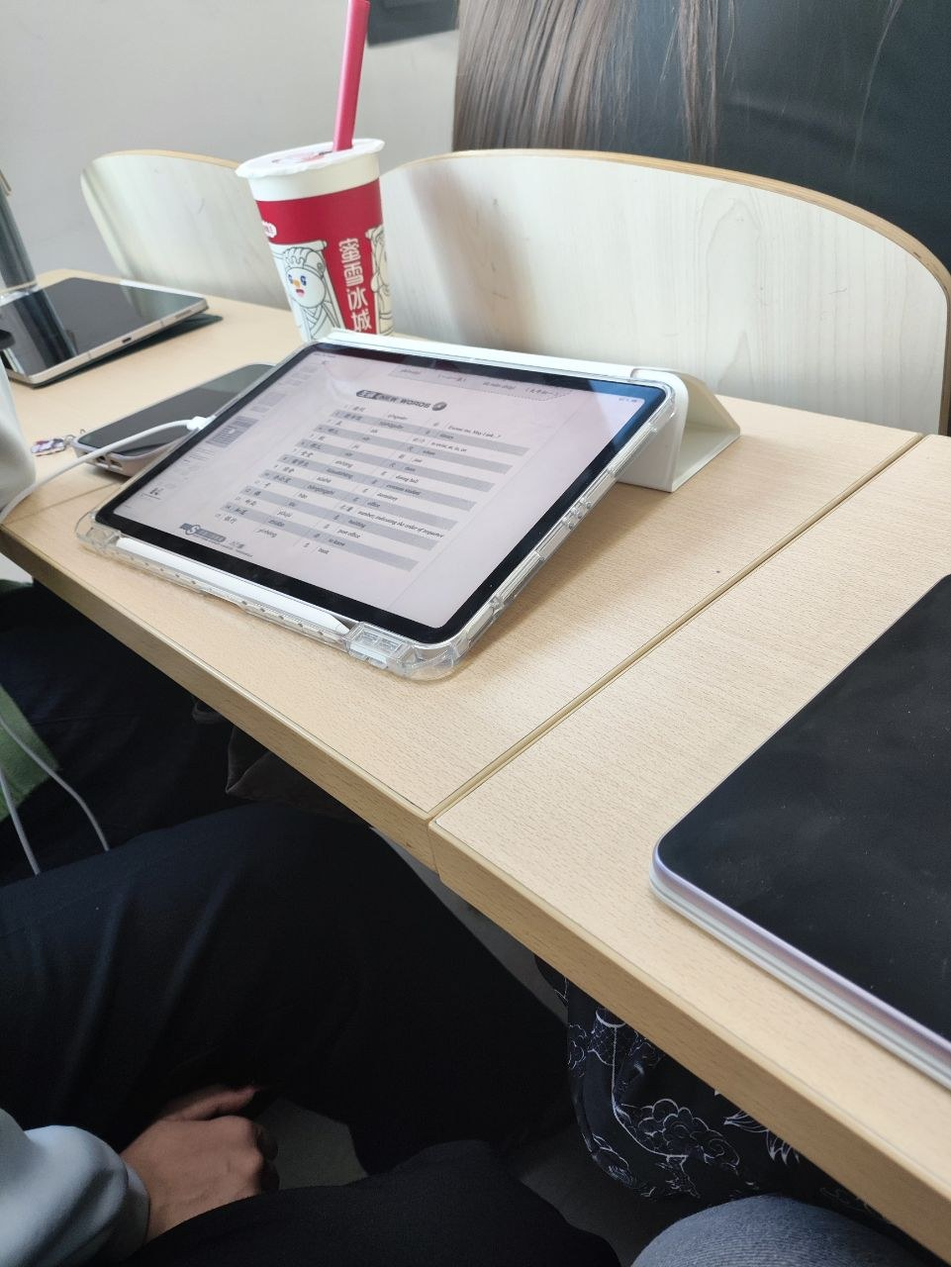cell phone: (71, 362, 277, 477)
